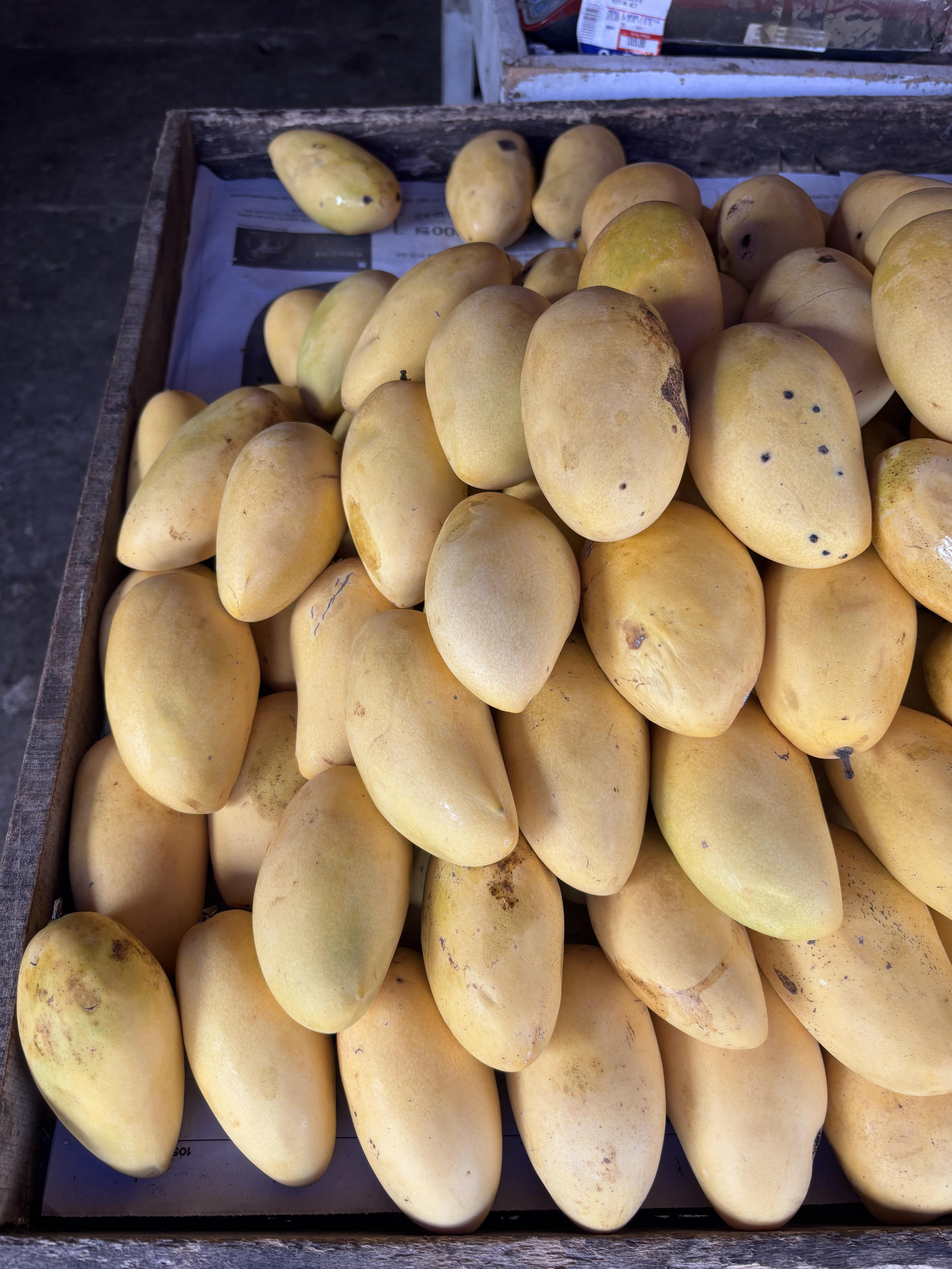mango: (685, 323, 871, 570), (17, 912, 184, 1178), (521, 286, 690, 542), (105, 569, 260, 816), (425, 492, 580, 712), (268, 129, 402, 235), (445, 129, 536, 248)
occluded: (751, 826, 952, 1095), (337, 947, 502, 1232), (337, 948, 502, 1232), (651, 697, 842, 939), (506, 945, 666, 1231), (344, 609, 518, 865), (176, 910, 336, 1186), (581, 500, 765, 737), (653, 984, 827, 1230), (253, 765, 412, 1034), (587, 821, 767, 1049), (495, 631, 649, 896), (756, 547, 916, 780), (421, 833, 564, 1071), (69, 735, 208, 976), (117, 387, 290, 571), (342, 243, 510, 414), (342, 381, 466, 608), (825, 706, 952, 918), (742, 247, 893, 425), (216, 421, 345, 622), (425, 285, 550, 489), (578, 201, 723, 361), (290, 557, 394, 778), (824, 1051, 952, 1224), (209, 691, 306, 906), (872, 210, 952, 440), (869, 439, 952, 622), (297, 270, 396, 421), (716, 175, 825, 288), (826, 170, 944, 264), (532, 125, 625, 239), (581, 162, 702, 249), (126, 390, 206, 505), (862, 182, 952, 270), (502, 479, 586, 562), (264, 288, 325, 386), (250, 603, 295, 691), (517, 247, 583, 303), (924, 626, 952, 723), (258, 383, 314, 422), (718, 273, 748, 329), (929, 908, 952, 961), (332, 411, 353, 441), (507, 253, 524, 282)
